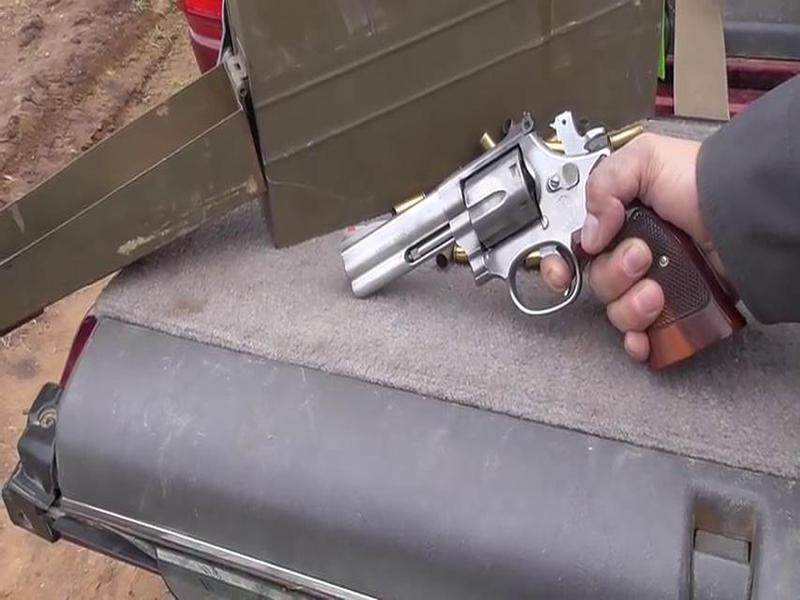Revolver: (338, 111, 647, 359)
